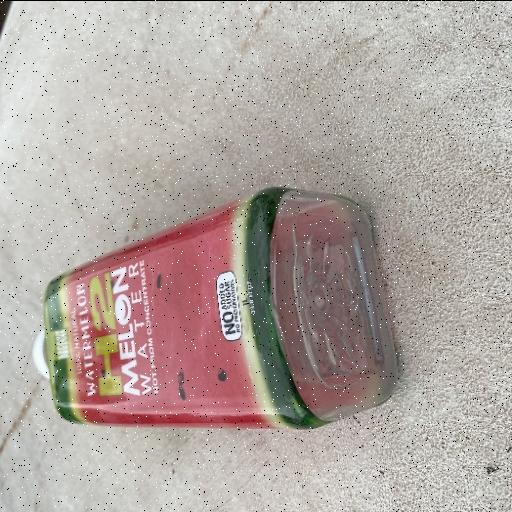Plastic: (36, 184, 400, 432)
